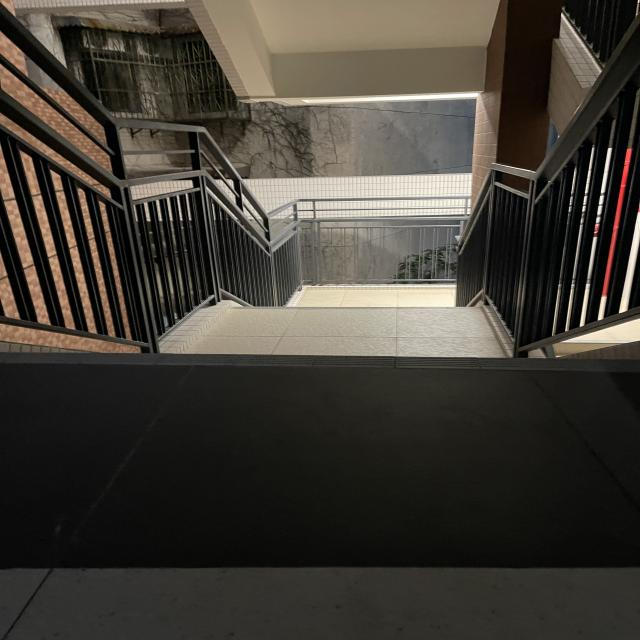Stairs: (26, 284, 630, 404)
